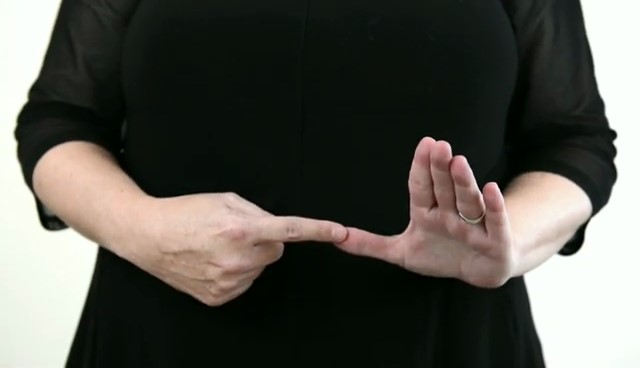A: (146, 132, 516, 315)
